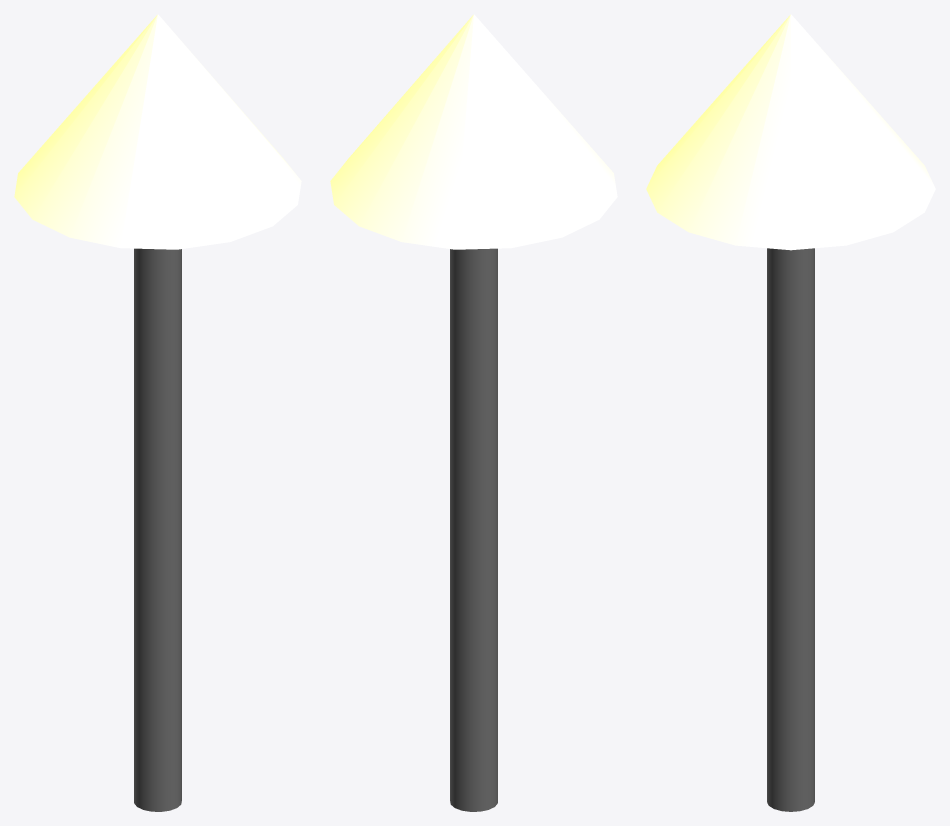
Rendered from lamp.gltf.
3 renders of one model, left to right at view 1: azimuth 30°, elevation 25°; view 2: azimuth 150°, elevation 25°; view 3: azimuth 270°, elevation 25°, orthographic.
Parts seen in each view (by area): view 1: lamp-shade, lamp-stand; view 2: lamp-shade, lamp-stand; view 3: lamp-shade, lamp-stand.
Part boxes in pixels (x1,y1,x2,y2): lamp-shade: (14,14,301,249); lamp-stand: (134,248,181,811); lamp-shade: (330,14,617,249); lamp-stand: (450,248,497,811); lamp-shade: (646,14,935,250); lamp-stand: (767,248,814,811).
Size of the model in its own units: 0.6 by 1.8 by 0.6.
